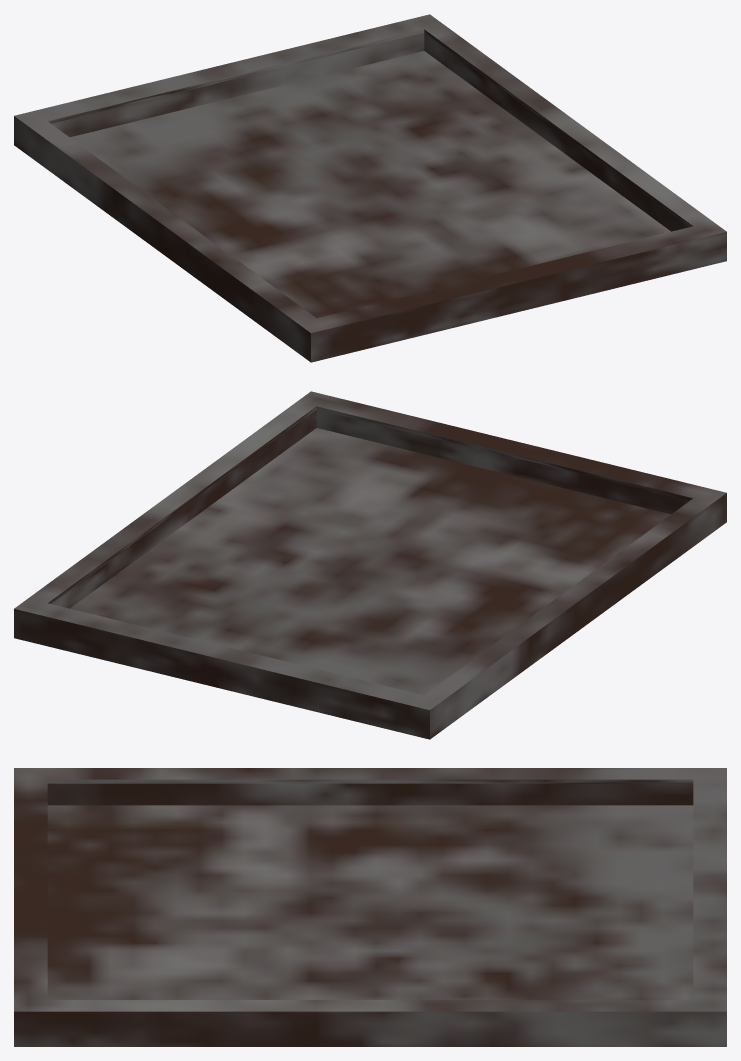
File: TangramFrame.fbx
The picture shows the model from 3 angles, top to bottom: view 1: azimuth 30°, elevation 25°; view 2: azimuth 150°, elevation 25°; view 3: azimuth 270°, elevation 25°; orthographic projection. The views are drawn at different scales.
Parts seen in each view (by area): view 1: Cube; view 2: Cube; view 3: Cube.
Boxes of the visible parts, bbox=[...] form: Cube: bbox=[14, 14, 726, 362]; Cube: bbox=[14, 391, 726, 739]; Cube: bbox=[14, 768, 726, 1046].
Bounding box in the file's own units: 17.52 × 1.18 × 21.67.
